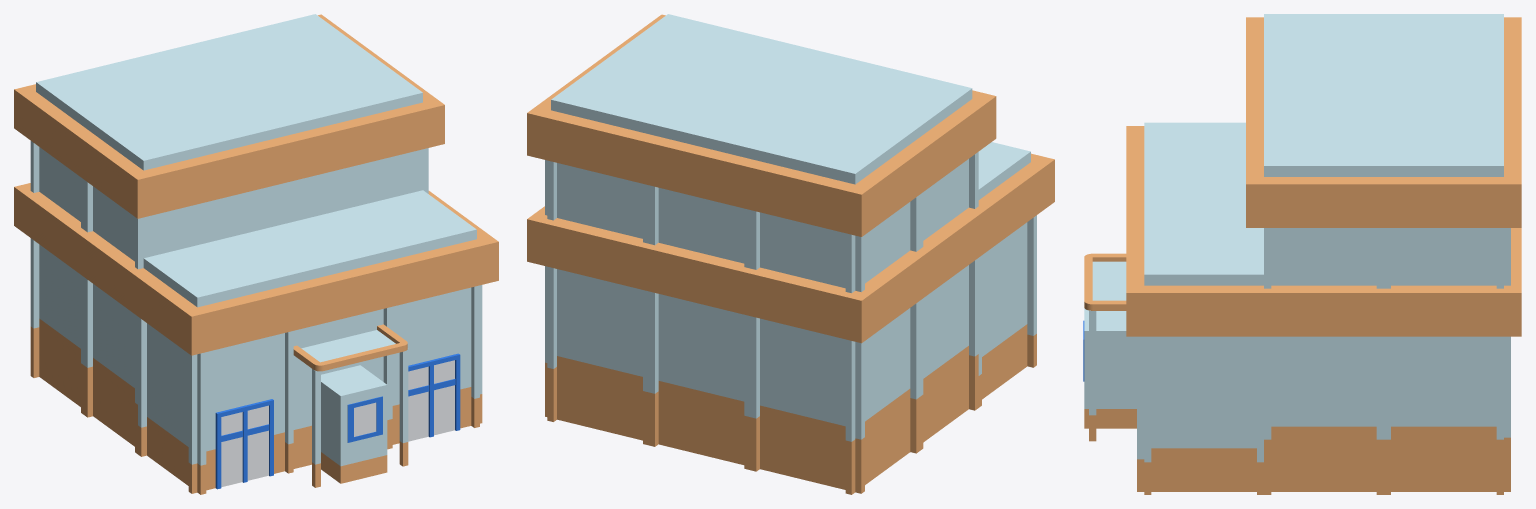
The model's file is M1_Building_Cinema.fbx.
3 renders of one model, left to right at view 1: azimuth 30°, elevation 25°; view 2: azimuth 150°, elevation 25°; view 3: azimuth 270°, elevation 25°, orthographic. The views are drawn at different scales.
Visible parts, largest first — view 1: block (×2), roof_flat (×2), columns_small (×6), door_wide (×2), block_quarter, detail_balcony, window_small; view 2: block (×2), roof_flat (×2), columns_small (×7); view 3: block (×2), roof_flat (×2), columns_small (×6), block_quarter, detail_balcony.
Part boxes in pixels (<box>): block (×2): <box>36,14,476,490</box>; roof_flat (×2): <box>14,14,498,355</box>; columns_small (×6): <box>30,141,479,494</box>; door_wide (×2): <box>215,353,460,489</box>; block_quarter: <box>321,365,387,483</box>; detail_balcony: <box>293,324,407,371</box>; window_small: <box>347,396,382,442</box>; block (×2): <box>551,14,1030,489</box>; roof_flat (×2): <box>527,14,1054,343</box>; columns_small (×7): <box>545,152,1036,494</box>; block (×2): <box>1144,14,1503,491</box>; roof_flat (×2): <box>1126,17,1521,336</box>; columns_small (×6): <box>1089,228,1510,494</box>; block_quarter: <box>1084,308,1136,428</box>; detail_balcony: <box>1084,253,1126,310</box>.
Bounding box in the file's own units: 33 × 30 × 36.59.
